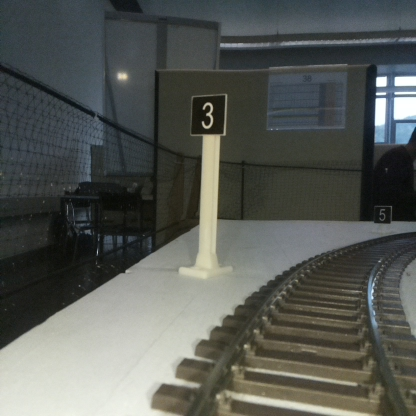black-info-3: (190, 95, 225, 275)
black-stop-5: (374, 205, 391, 233)
